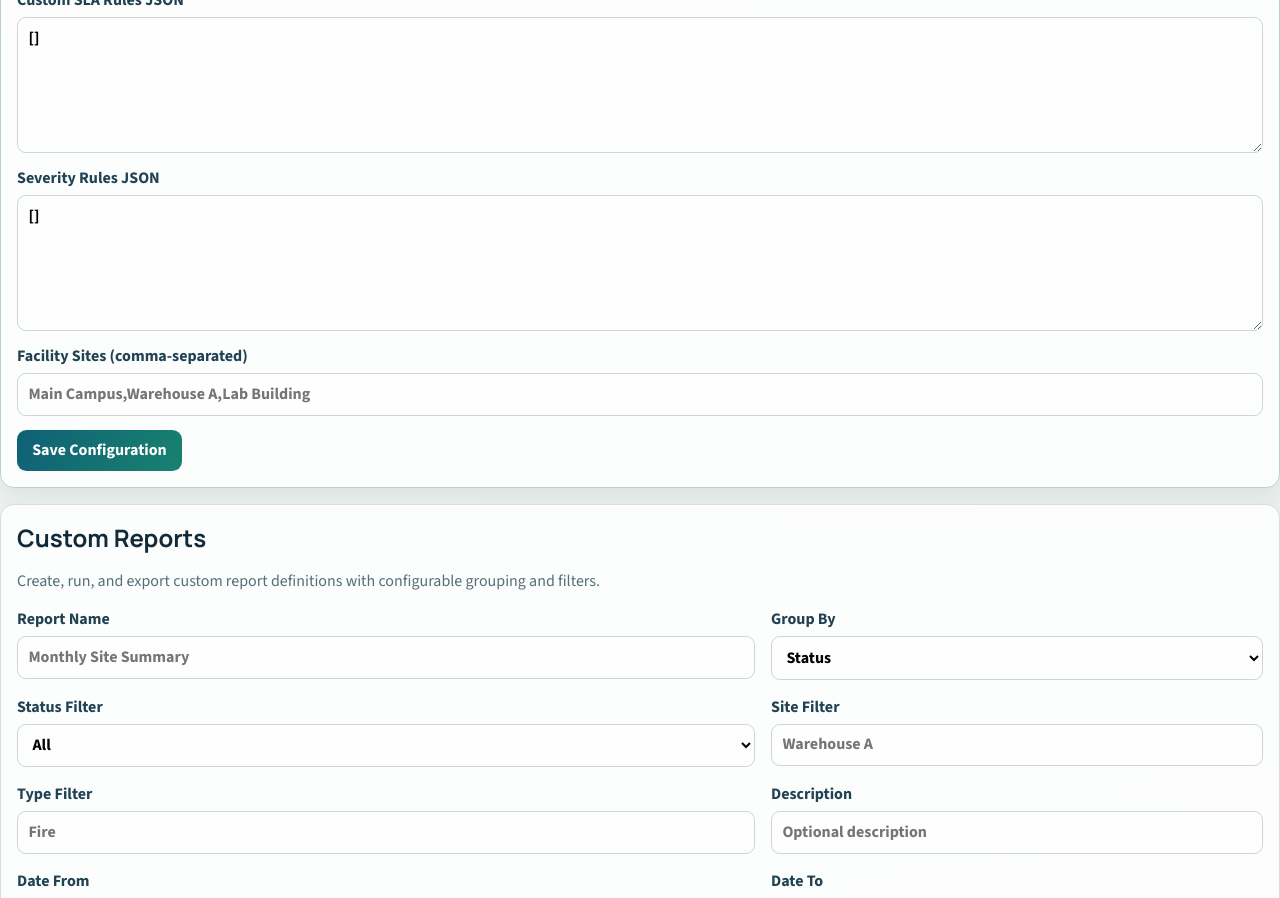
Test case: Admin.vue › shows error when save fails
(page scrolled)
Click the button "Save Configuration": point(99, 451) [17, 430, 182, 471]
(page scrolled)
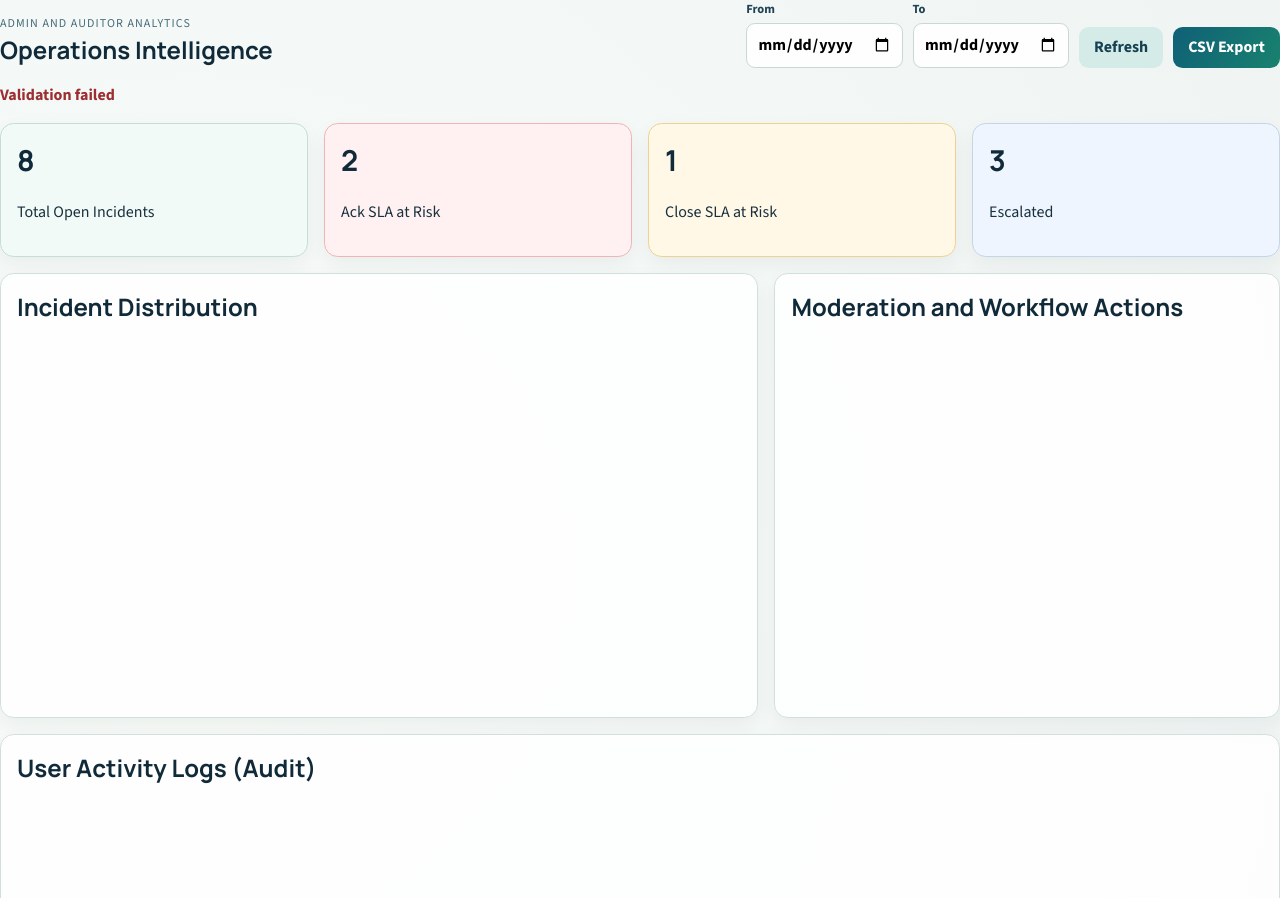
Expected: the text with class "error" reads "Validation failed", [0, 84, 115, 106]
